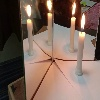fire: (80, 13, 86, 35)
